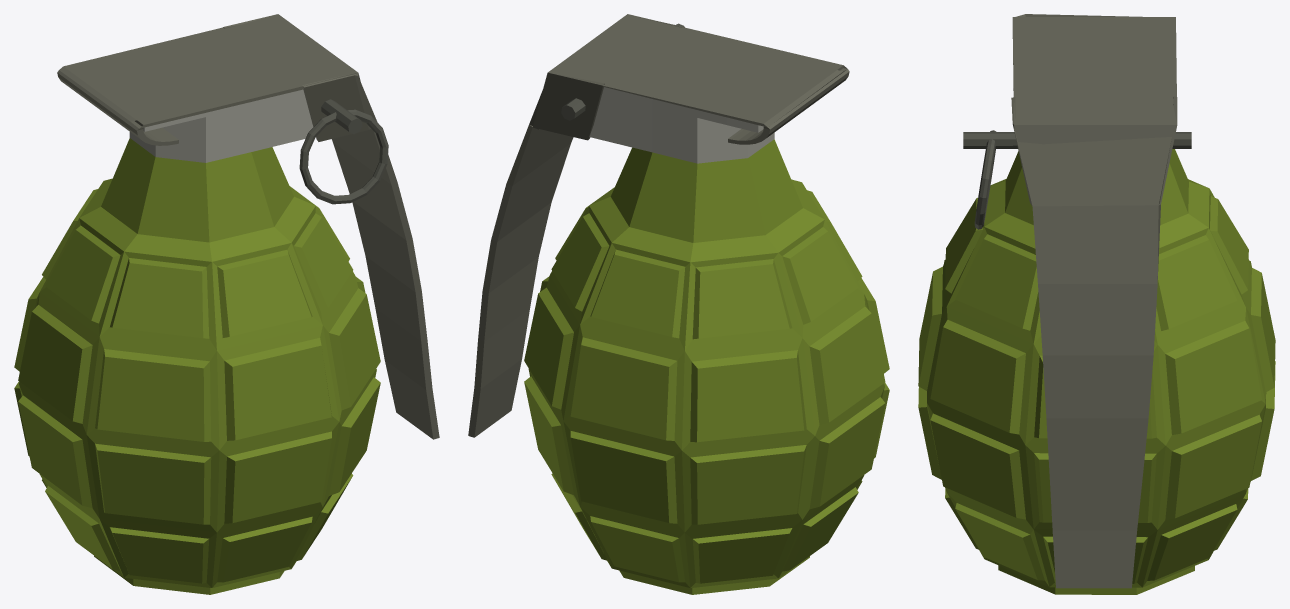
The model's file is granade1.fbx.
3 renders of one model, left to right at view 1: azimuth 30°, elevation 25°; view 2: azimuth 150°, elevation 25°; view 3: azimuth 270°, elevation 25°, orthographic. The views are drawn at different scales.
Parts seen in each view (by area): view 1: body, head, body.001, ring, pin; view 2: body, head, body.001; view 3: body, head, pin, ring.
Part boxes in pixels (box(x1,y1,x2,y2)): body: box(14, 138, 380, 594); head: box(57, 14, 439, 439); body.001: box(129, 89, 313, 162); ring: box(299, 109, 388, 204); pin: box(321, 99, 362, 134); body: box(524, 139, 889, 594); head: box(468, 14, 849, 437); body.001: box(589, 87, 774, 163); body: box(918, 149, 1275, 594); head: box(1011, 14, 1177, 588); pin: box(963, 132, 1191, 148); ring: box(974, 130, 996, 229).
Size of the model in its own units: 120 by 147 by 97.38.
